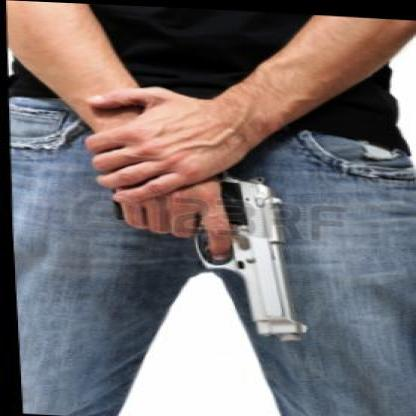pistol: (98, 146, 304, 340)
